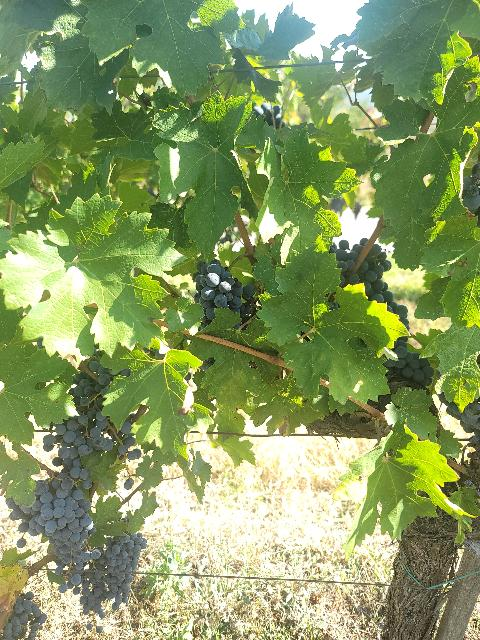grapes: (6, 474, 101, 574), (330, 238, 409, 332), (194, 260, 248, 320), (105, 534, 146, 610), (0, 591, 46, 640), (80, 552, 110, 619)
